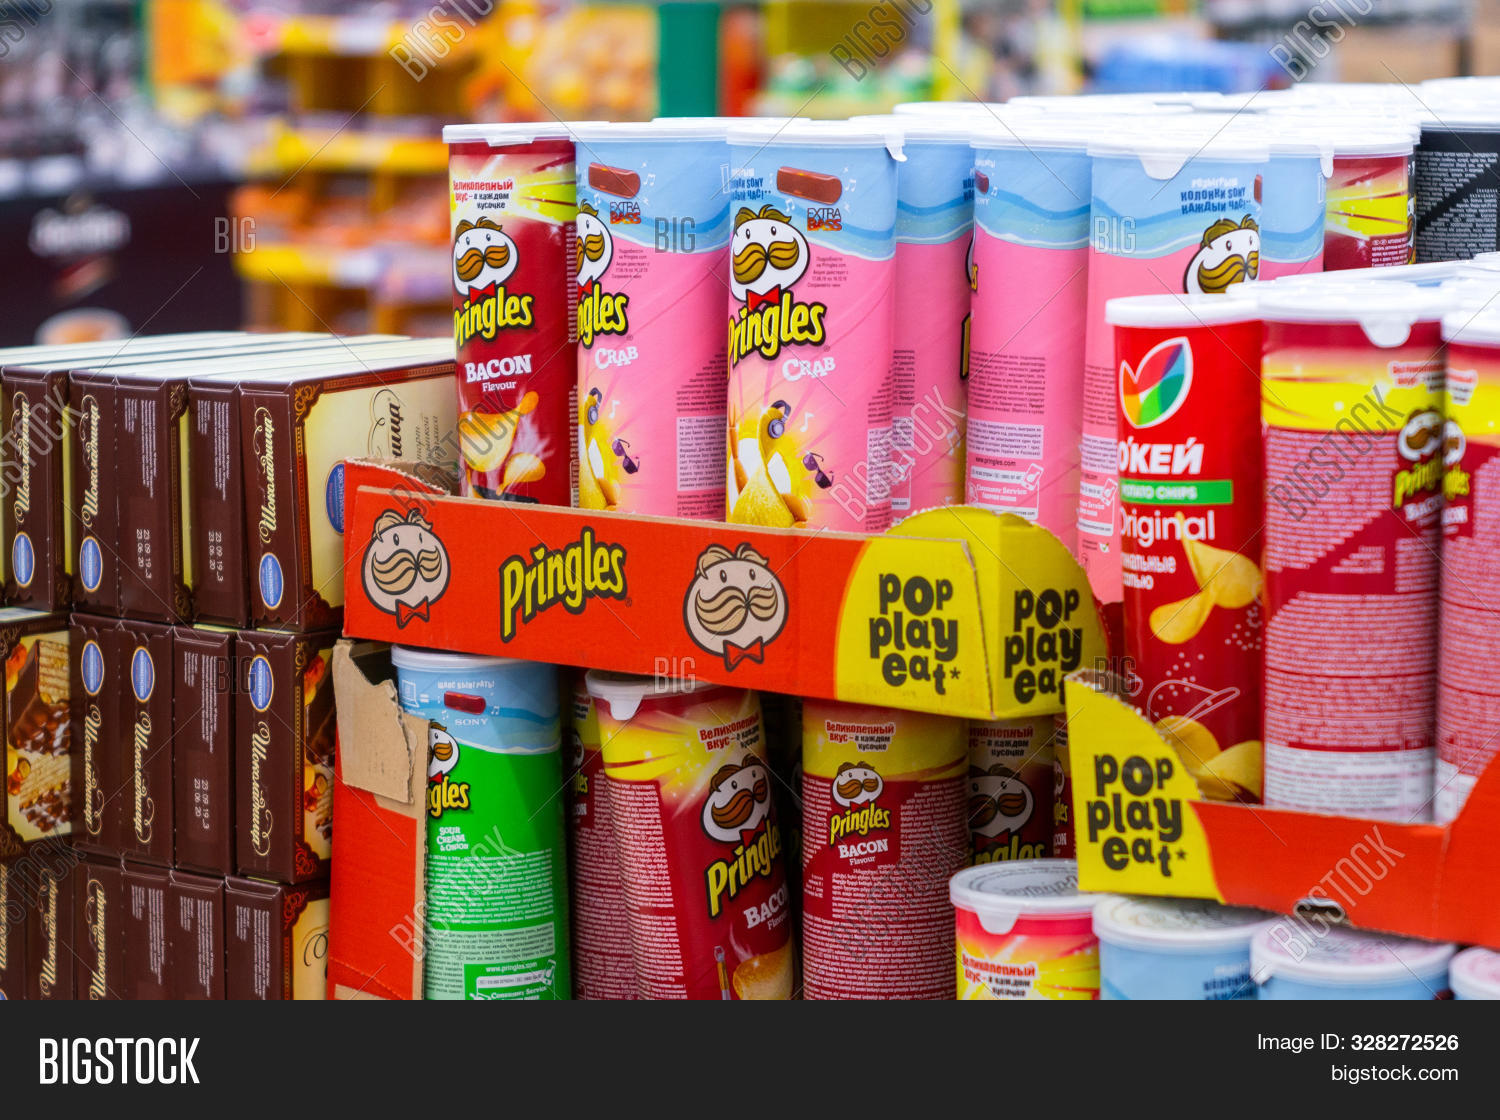chip: (1112, 308, 1271, 836), (728, 134, 905, 592), (414, 128, 579, 564), (571, 129, 722, 576), (569, 679, 764, 1009), (411, 648, 565, 1001)
